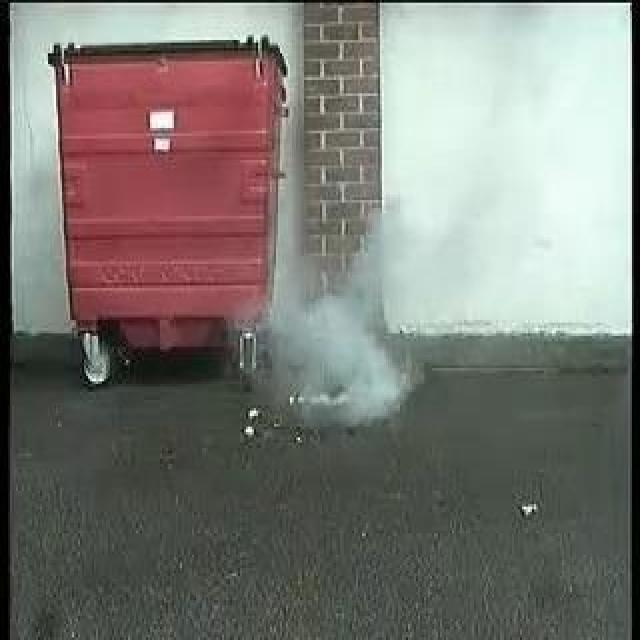Smoke: (275, 268, 415, 420)
